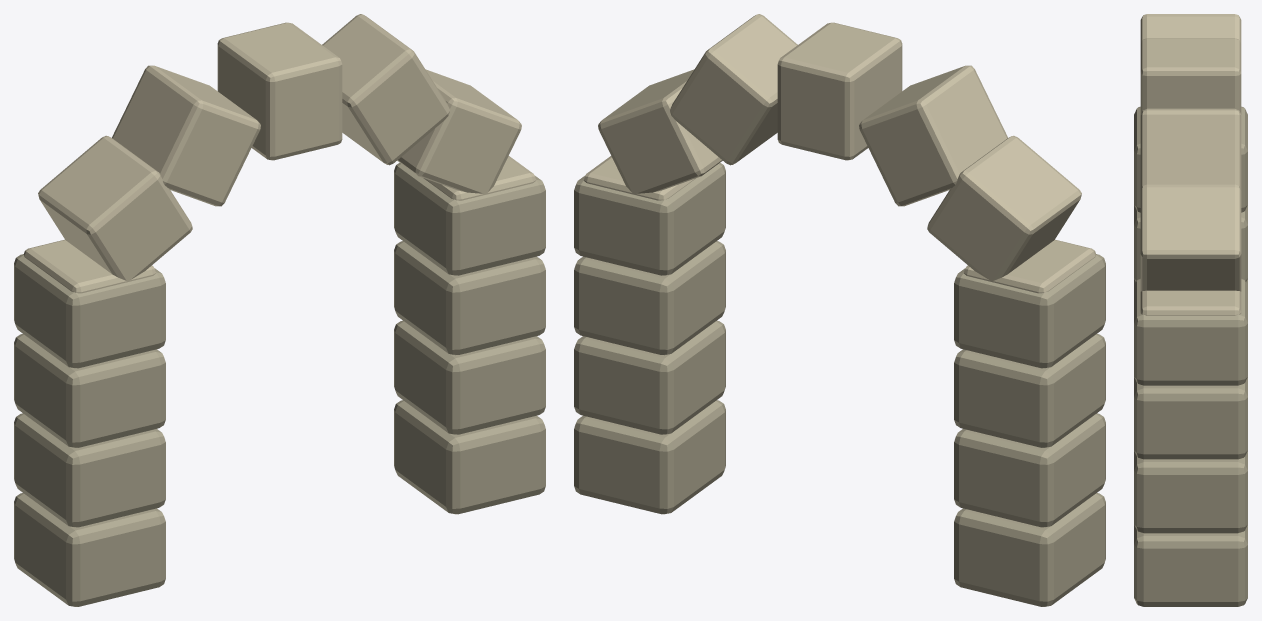
The model's file is Broken_Stone_Arch_Barren.glb.
3 views of the same model, side by side, from view 1: azimuth 30°, elevation 25°; view 2: azimuth 150°, elevation 25°; view 3: azimuth 270°, elevation 25° (orthographic). The views are drawn at different scales.
Visible parts, largest first — view 1: Structure; view 2: Structure; view 3: Structure.
Part boxes in pixels (box(x1,y1,x2,y2)): Structure: box(14, 14, 545, 606); Structure: box(574, 14, 1105, 606); Structure: box(1134, 14, 1247, 606).
Bounding box in the file's own units: 3.15 × 3.05 × 0.7.
